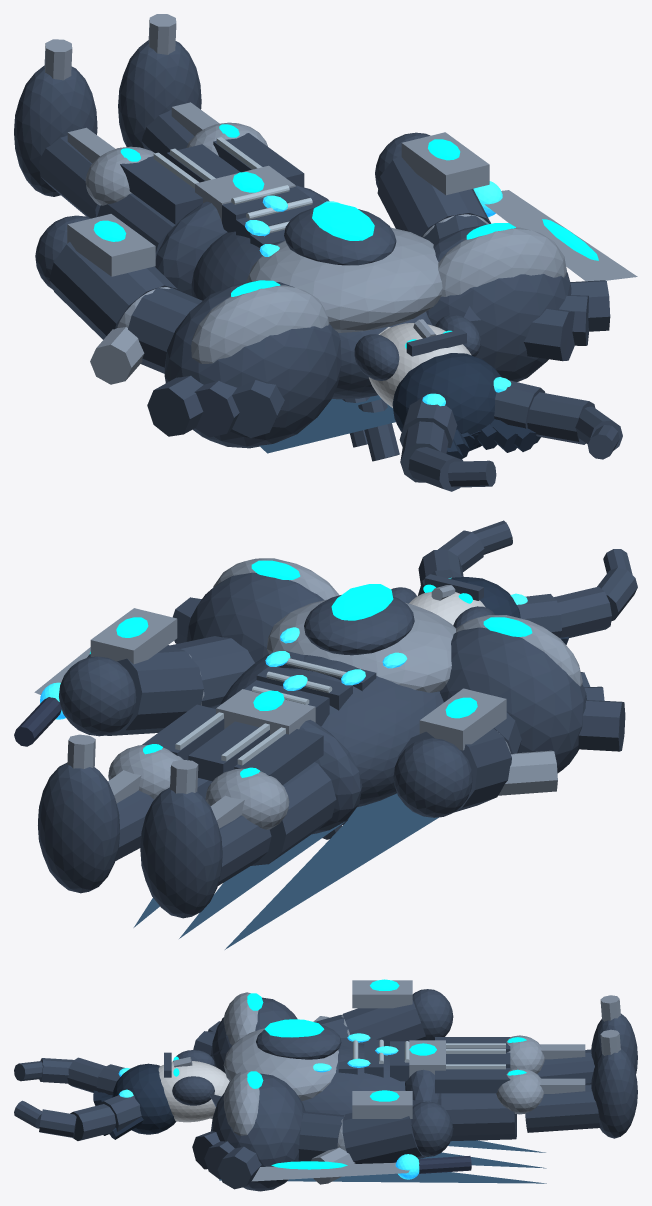
The model's file is demonlord_full_assembly_preview.glb.
3 renders of one model, top to bottom at view 1: azimuth 30°, elevation 25°; view 2: azimuth 150°, elevation 25°; view 3: azimuth 270°, elevation 25°, orthographic. The views are drawn at different scales.
Visible parts, largest first — view 1: Shoulder pauldron -1, Chest breastplate, Shoulder pauldron 1, Shoulder bevel -1, Boot -1, Shoulder bevel 1, Hair crown, Boot 1, Forearm gauntlet -1, Torso armored core, Forearm gauntlet 1, Chest core housing (+47 smaller); view 2: Shoulder pauldron -1, Torso armored core, Boot -1, Boot 1, Cape layered panel 0, Chest breastplate, Shoulder pauldron 1, Forearm gauntlet 1, Glove -1, Glove 1, Chest core housing, Thigh armor -1 (+39 smaller); view 3: Shoulder pauldron 1, Chest breastplate, Boot 1, Forearm gauntlet 1, Thigh armor 1, Torso armored core, Shin greave 1, Hair crown, Forearm gauntlet -1, Face, Chest core housing, Glove 1 (+48 smaller).
Part boxes in pixels (box(x1,y1,x2,y2)): Shoulder pauldron -1: box(164, 280, 341, 448); Chest breastplate: box(246, 227, 442, 332); Shoulder pauldron 1: box(426, 225, 571, 381); Shoulder bevel -1: box(191, 285, 329, 363); Boot -1: box(14, 65, 97, 196); Shoulder bevel 1: box(438, 227, 566, 296); Hair crown: box(392, 353, 501, 451); Boot 1: box(118, 40, 201, 148); Forearm gauntlet -1: box(49, 242, 177, 339); Torso armored core: box(191, 231, 431, 399); Forearm gauntlet 1: box(377, 155, 490, 236); Chest core housing: box(284, 207, 396, 265); Shoulder pauldron -1: box(439, 627, 586, 773); Torso armored core: box(220, 654, 443, 807); Boot -1: box(140, 787, 222, 918); Boot 1: box(38, 763, 119, 893); Cape layered panel 0: box(225, 793, 438, 949); Chest breastplate: box(267, 599, 455, 692); Shoulder pauldron 1: box(186, 572, 324, 662); Forearm gauntlet 1: box(87, 645, 203, 735); Glove -1: box(393, 738, 472, 817); Glove 1: box(59, 656, 136, 736); Chest core housing: box(304, 595, 414, 655); Thigh armor -1: box(251, 762, 336, 865); Shoulder pauldron 1: box(211, 1073, 305, 1191); Chest breastplate: box(223, 1028, 338, 1100); Boot 1: box(591, 1048, 637, 1138); Forearm gauntlet 1: box(342, 1100, 426, 1163); Thigh armor 1: box(441, 1093, 516, 1141); Torso armored core: box(302, 1043, 405, 1115); Shin greave 1: box(525, 1084, 600, 1132); Hair crown: box(112, 1063, 176, 1134); Forearm gauntlet -1: box(342, 1000, 426, 1046); Face: box(158, 1061, 227, 1122); Chest core housing: box(256, 1024, 341, 1059); Glove 1: box(411, 1101, 453, 1156).
Bounding box in the file's own units: 1.79 × 0.8044 × 2.91.
